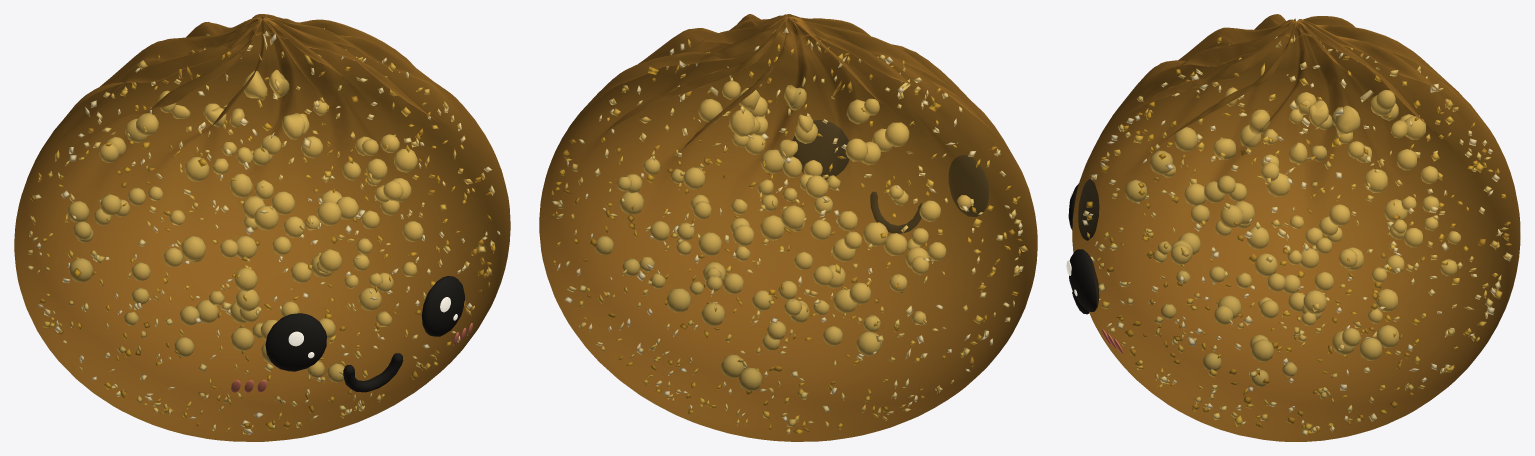
Rendered from squishy-mini.glb.
The picture shows the model from 3 angles, left to right: view 1: azimuth 30°, elevation 25°; view 2: azimuth 150°, elevation 25°; view 3: azimuth 270°, elevation 25°; orthographic projection.
Visible parts, largest first — view 1: Golden Glitter Baozi; view 2: Golden Glitter Baozi; view 3: Golden Glitter Baozi.
Part boxes in pixels (x1=…): Golden Glitter Baozi: x1=14, y1=14, x2=510, y2=441; Golden Glitter Baozi: x1=539, y1=14, x2=1037, y2=441; Golden Glitter Baozi: x1=1066, y1=14, x2=1520, y2=441.
Size of the model in its own units: 2.64 by 2.28 by 2.39.
